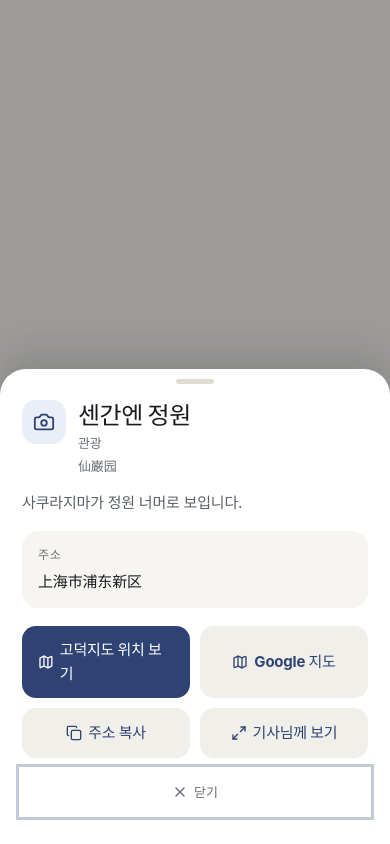
PlaceDetailSheet 장소 행동 › 중국 목적지에서는 기사님께 보여줄 큰 글씨 화면을 시트 안에서 연다
The width and height of the screenshot is (390, 844).
Click the button "기사님께 보기": x=284, y=733 x1=200 y1=708 x2=368 y2=758
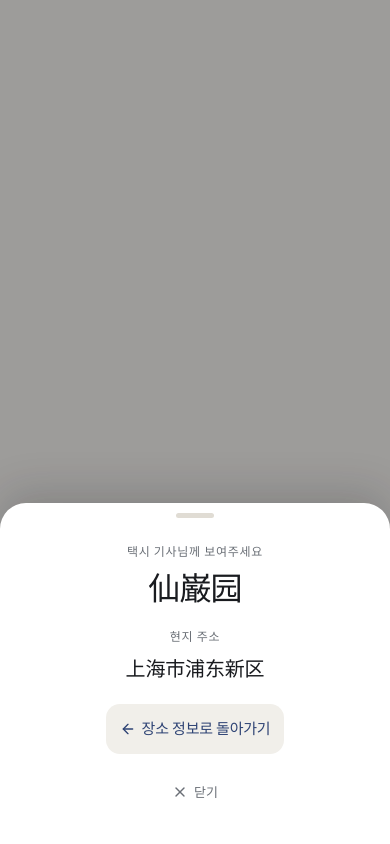
Expected: the heading "仙巌园" is shown, x1=148 y1=569 x2=242 y2=608
Result: the text "택시 기사님께 보여주세요" is shown at x1=127 y1=544 x2=263 y2=559
